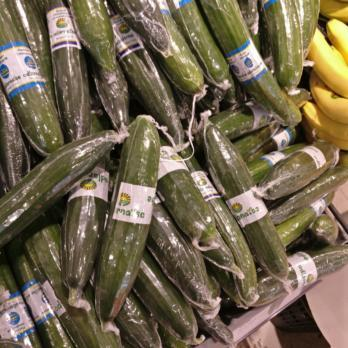Cucumber: (0, 0, 288, 348)
